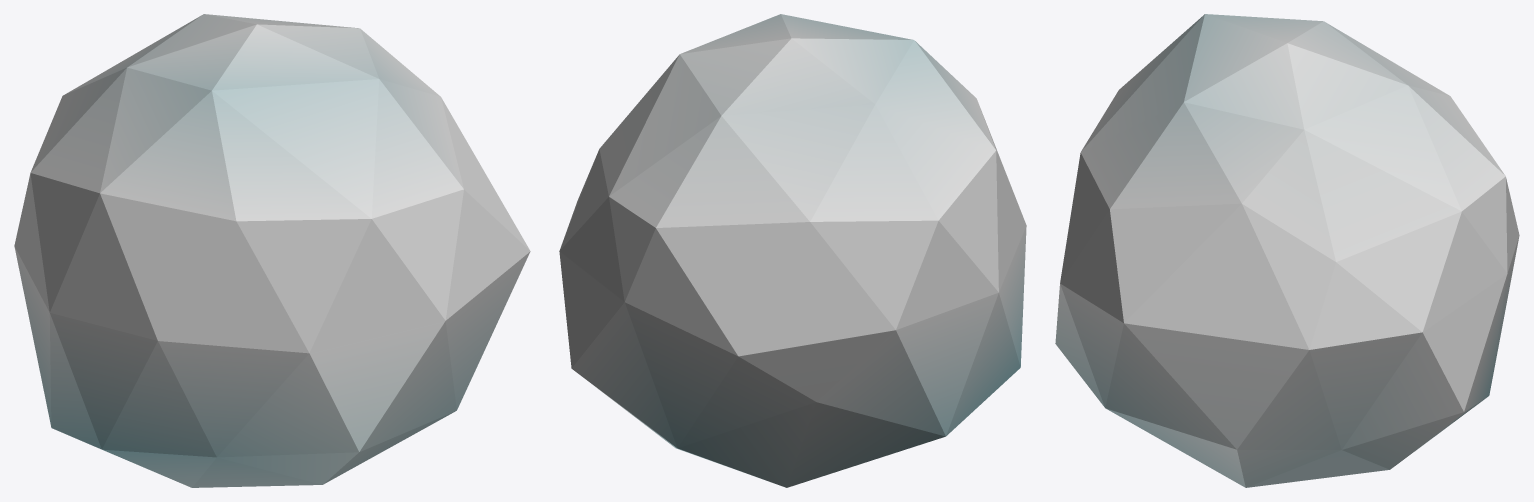
Rendered from sm_snow_man_bottom.fbx.
The picture shows the model from 3 angles, left to right: view 1: azimuth 30°, elevation 25°; view 2: azimuth 150°, elevation 25°; view 3: azimuth 270°, elevation 25°; orthographic projection. The views are drawn at different scales.
Parts seen in each view (by area): view 1: sm_snow_man_bottom; view 2: sm_snow_man_bottom; view 3: sm_snow_man_bottom.
Boxes of the visible parts, box(x1,y1,x2,y2) form: sm_snow_man_bottom: box(14, 14, 530, 487); sm_snow_man_bottom: box(559, 14, 1026, 487); sm_snow_man_bottom: box(1055, 14, 1519, 487).
Size of the model in its own units: 135 by 141 by 139.
